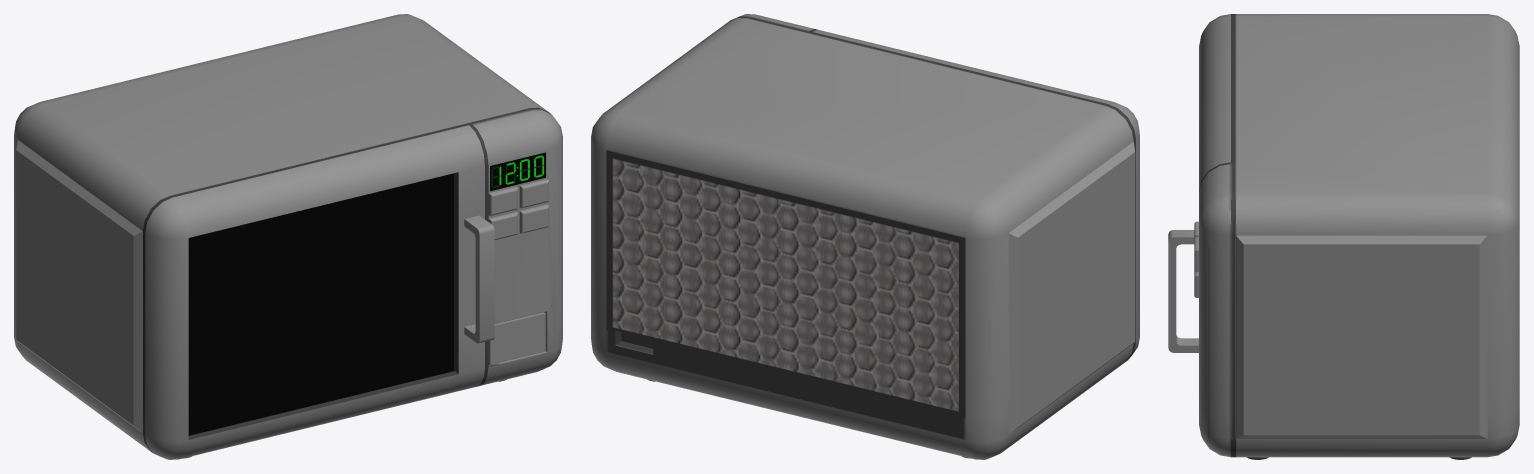
Rendered from microwave.fbx.
The picture shows the model from 3 angles, left to right: view 1: azimuth 30°, elevation 25°; view 2: azimuth 150°, elevation 25°; view 3: azimuth 270°, elevation 25°; orthographic projection.
Visible parts, largest first — view 1: MAIN, DOOR, SCREEN; view 2: MAIN, DOOR; view 3: MAIN, DOOR.
Boxes of the visible parts, x1,y1,x2,y2 form: MAIN: (14, 14, 562, 452); DOOR: (145, 125, 494, 459); SCREEN: (490, 152, 545, 191); MAIN: (591, 14, 1135, 459); DOOR: (813, 29, 1139, 358); MAIN: (1194, 14, 1519, 457); DOOR: (1168, 14, 1230, 352).
Bounding box in the file's own units: 308 × 187 × 219.
Materials: 3 (2 with a texture image).
